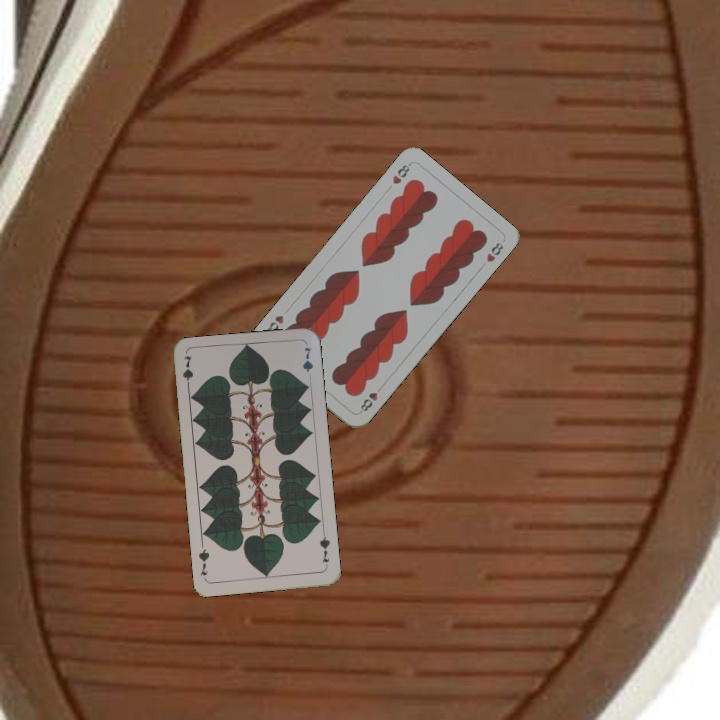G7: (315, 529, 333, 570), (178, 352, 196, 393)
H8: (388, 159, 414, 187), (356, 388, 380, 414)
